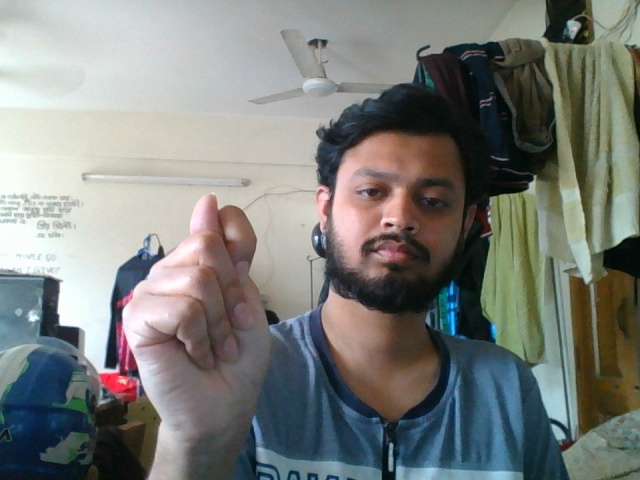ta: (120, 189, 280, 459)
